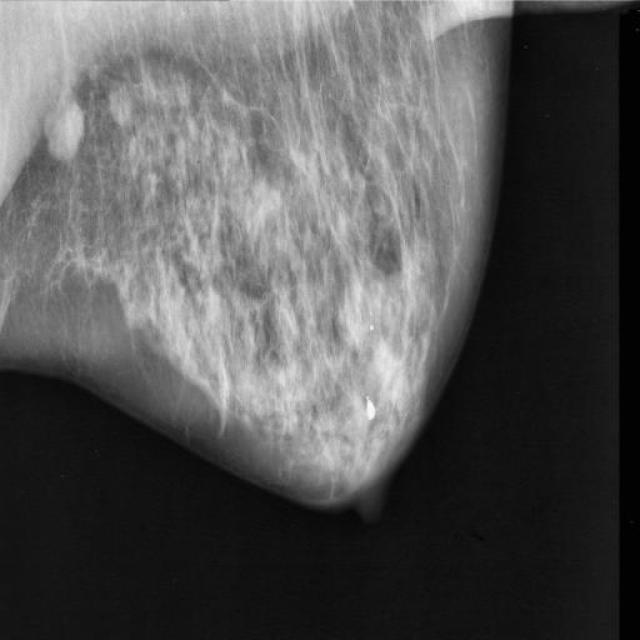cancer: (38, 95, 102, 185)
